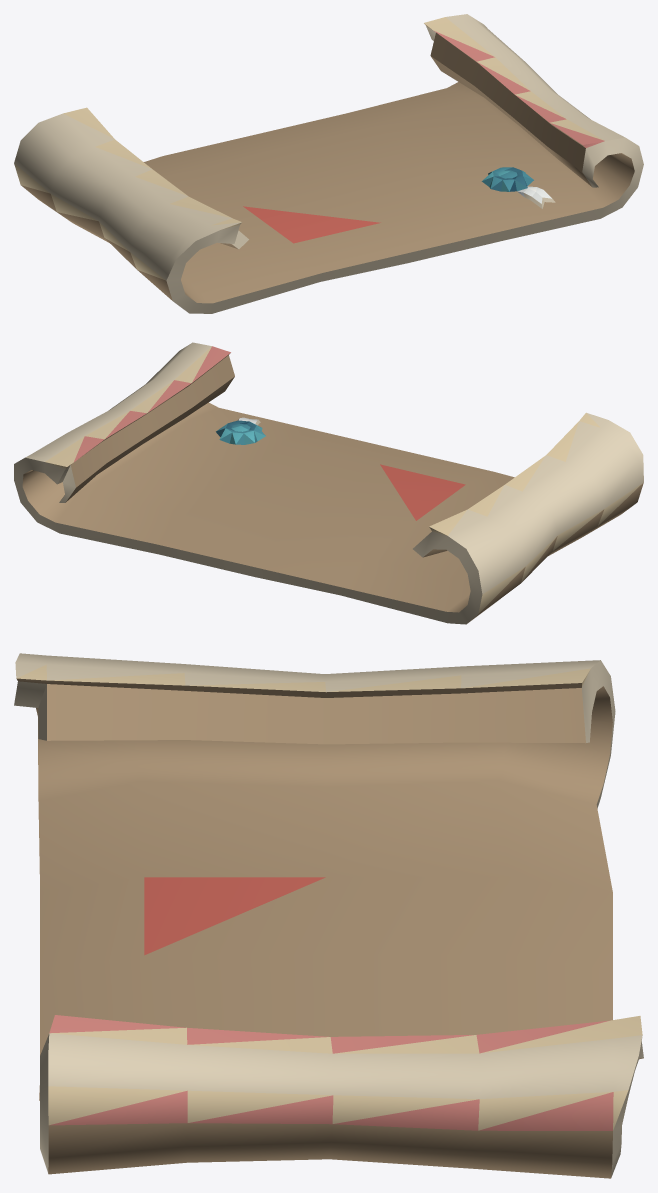
Rendered from itch_kaykit_rpg_tools_map.glb.
3 views of the same model, one above another, from view 1: azimuth 30°, elevation 25°; view 2: azimuth 150°, elevation 25°; view 3: azimuth 270°, elevation 25° (orthographic). The views are drawn at different scales.
Parts seen in each view (by area): view 1: map; view 2: map; view 3: map.
Part boxes in pixels (x1,y1,x2,y2): map: (14, 14, 643, 313); map: (14, 342, 643, 624); map: (14, 653, 643, 1178).
Size of the model in its own units: 1.18 by 0.2159 by 0.741.
